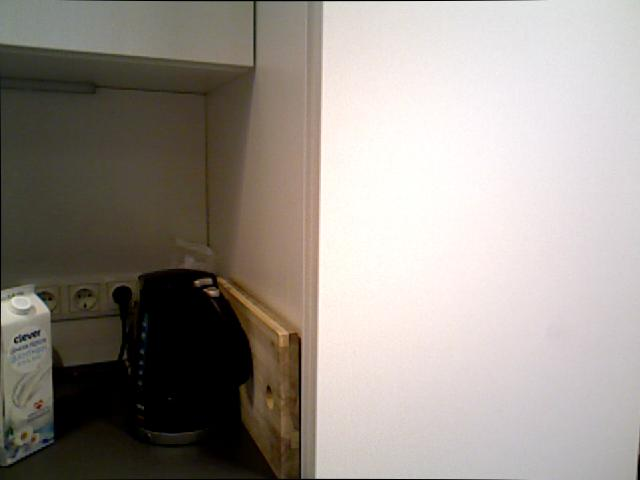bench: (0, 285, 58, 469)
hot dog: (207, 0, 639, 479)
